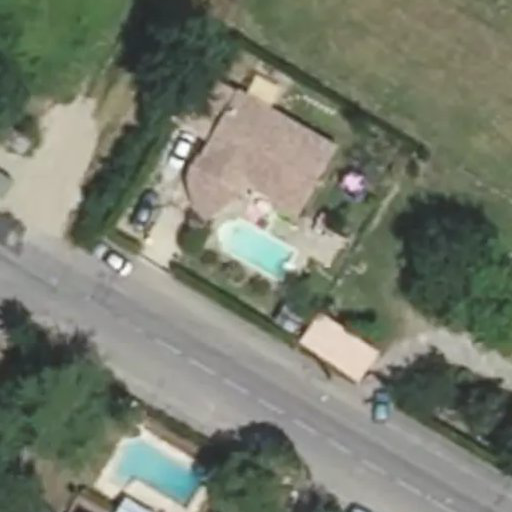pool: (211, 233, 293, 244)
